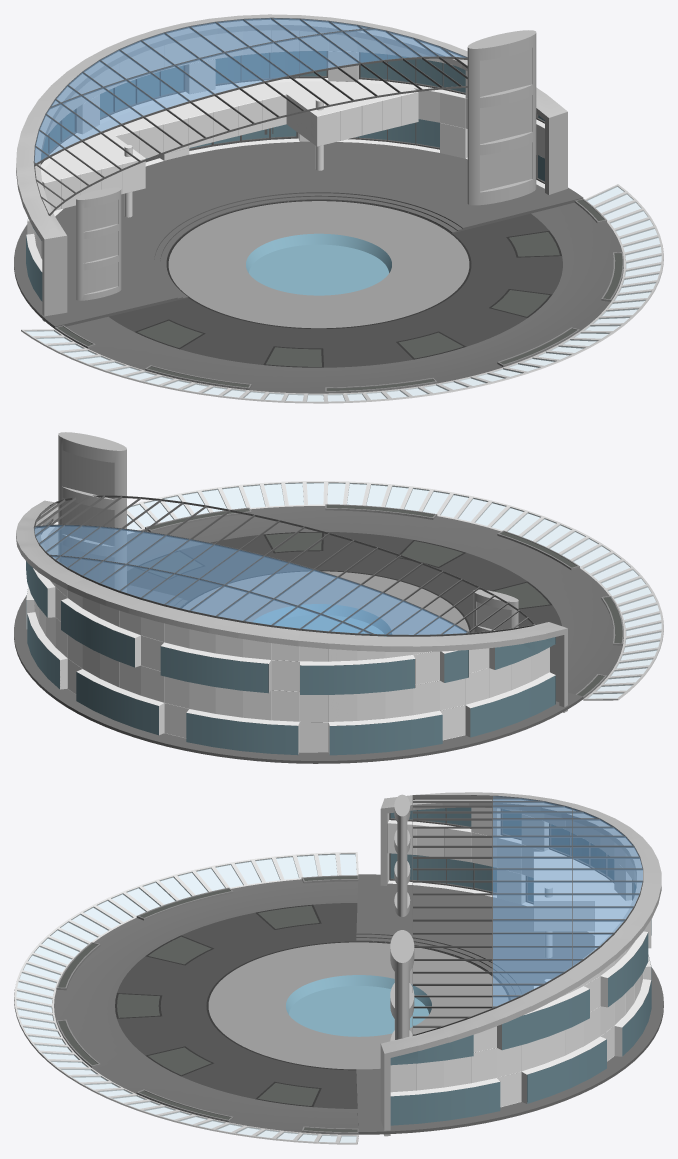
The model's file is building_entrance.glb.
The picture shows the model from 3 angles, top to bottom: view 1: azimuth 30°, elevation 25°; view 2: azimuth 150°, elevation 25°; view 3: azimuth 270°, elevation 25°; orthographic projection.
Visible parts, largest first — view 1: divide9; view 2: divide9; view 3: divide9.
Boxes of the visible parts, x1,y1,x2,y2 form: divide9: [14, 14, 663, 403]; divide9: [14, 432, 663, 763]; divide9: [14, 792, 663, 1144].
Size of the model in its own units: 3.39 by 0.9163 by 3.2.
